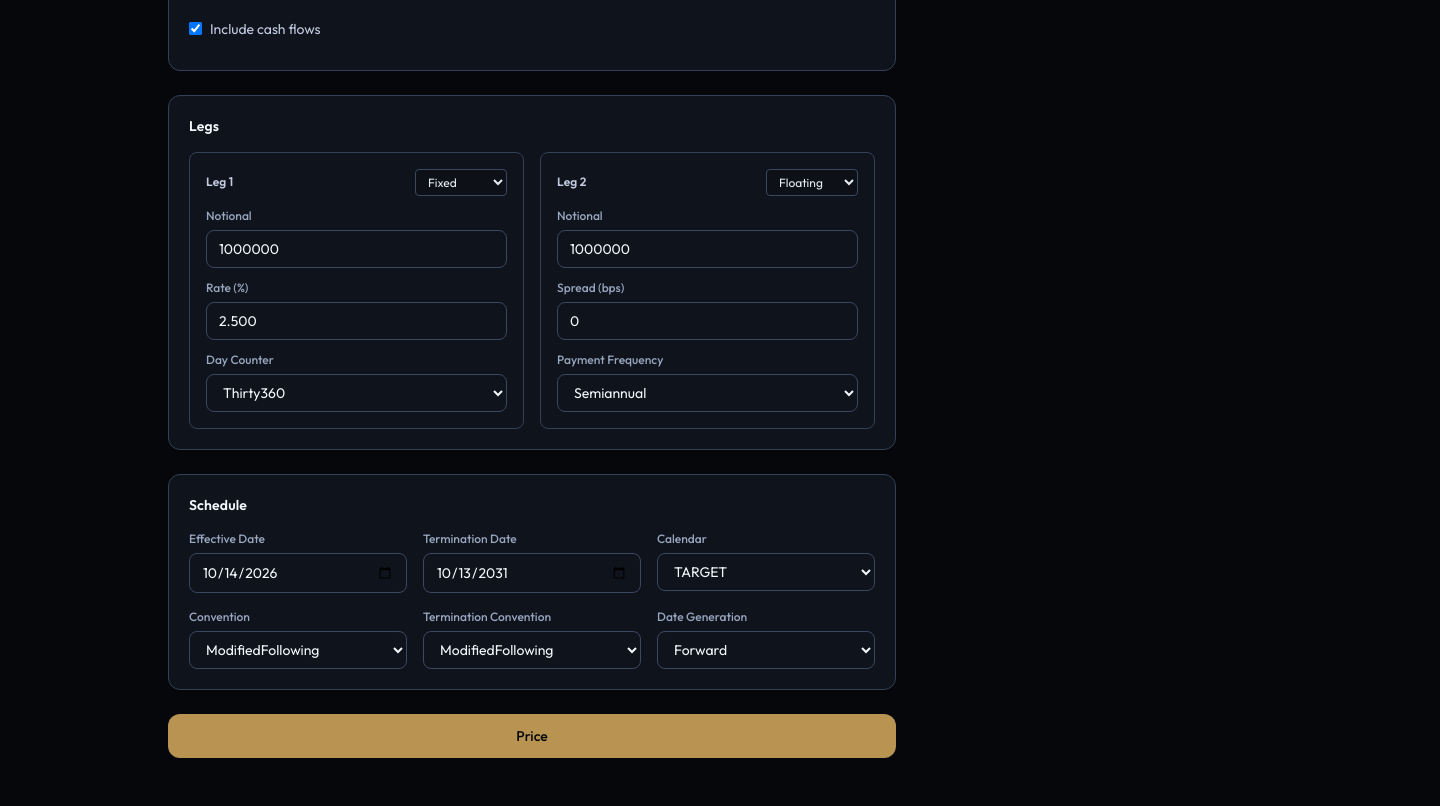
it: IrSwap component — C1–C4 (adapter cutover) › C5: success surfaces the request id + an enabled View trace link
(page scrolled)
Click the button "Price": (532, 736) top-left (168, 714), bottom-right (896, 758)
(page scrolled)
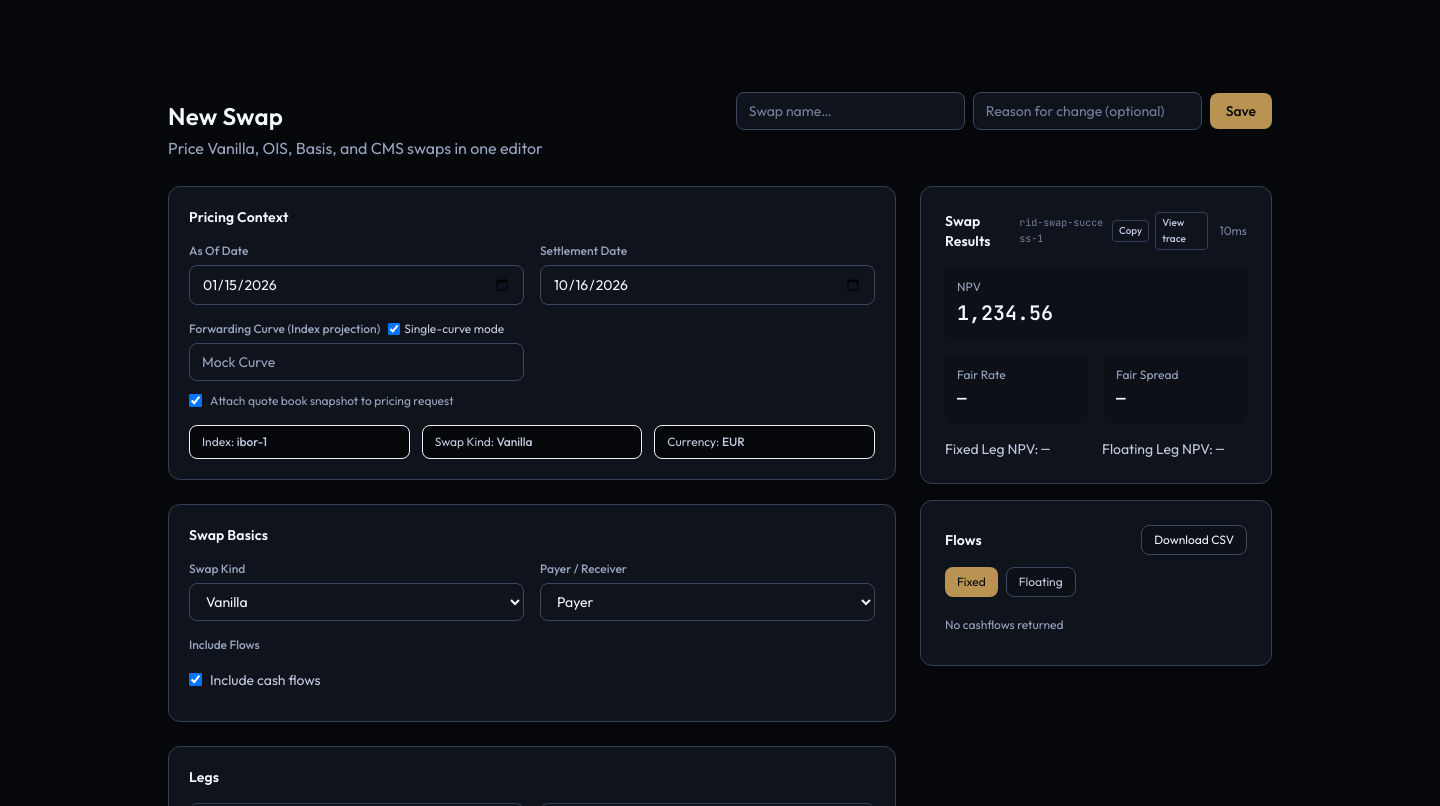
expect the heading "Swap Results" is shown: met, box top-left (945, 212), bottom-right (991, 250)
expect the text "rid-swap-success-1" is shown: met, box top-left (1019, 215), bottom-right (1106, 247)
